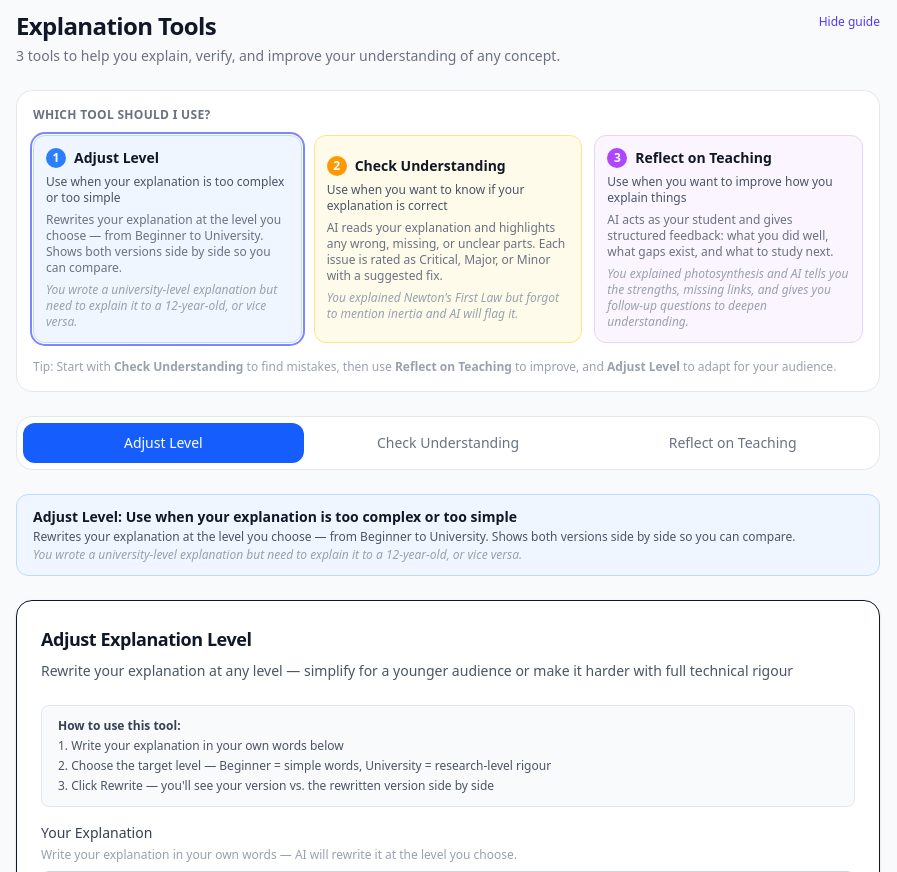
Test: SimplifyPage — Explanation Tools › active tab banner shows correct guidance
The width and height of the screenshot is (897, 872).
Click the button "Check Understanding".
click(448, 239)  # box [314, 135, 582, 343]
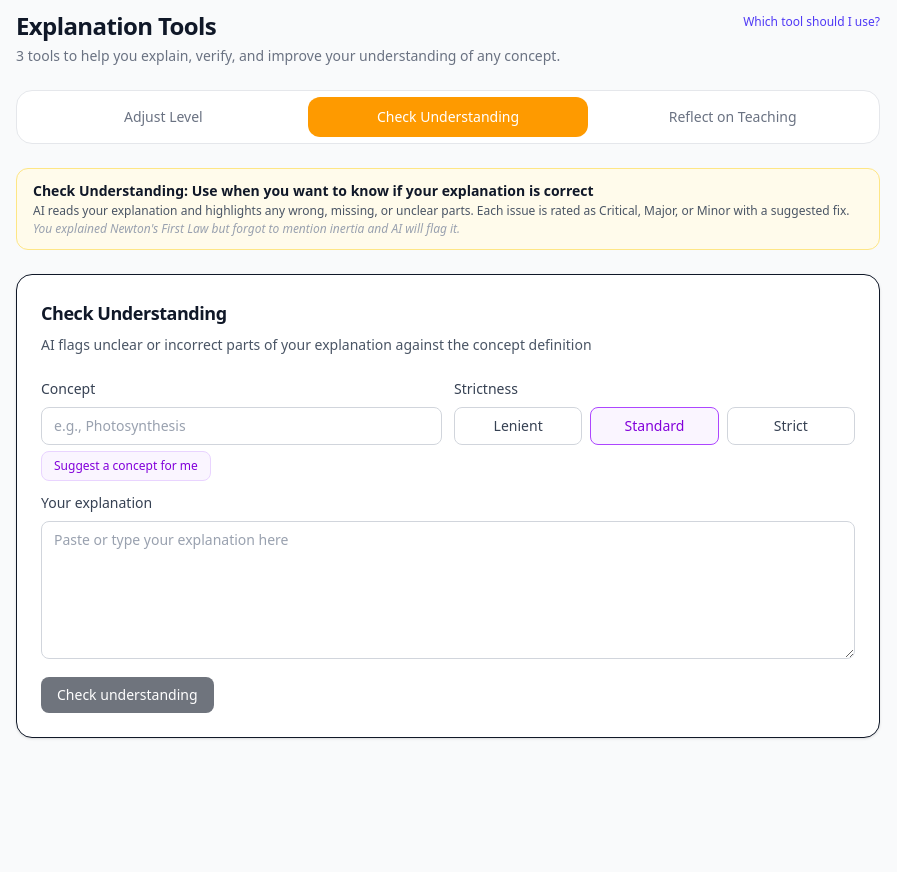
Check: the text "want to know if your explanation is correct" is shown, box [192, 181, 594, 200]
